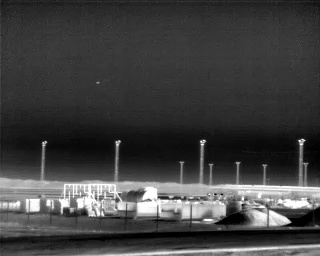BIRD: (94, 79, 101, 87)
